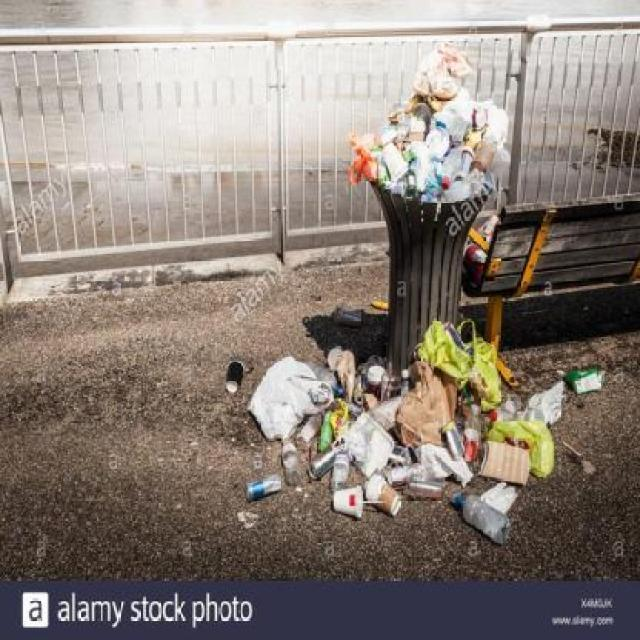garbage: (220, 345, 617, 545), (340, 37, 507, 206)
